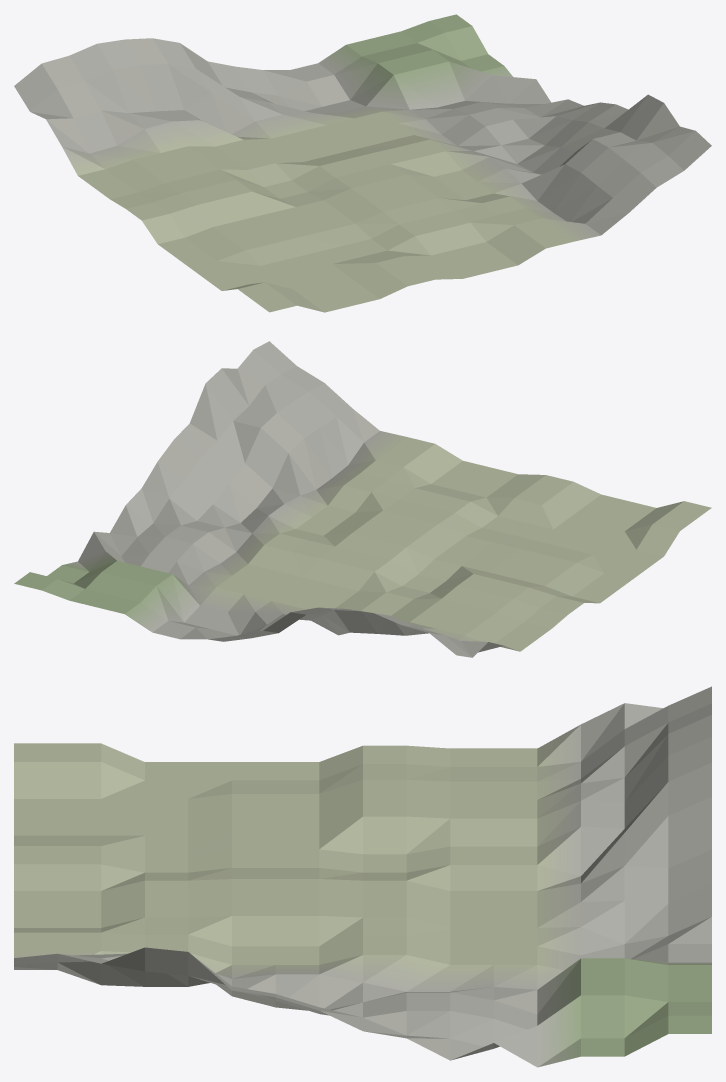
The picture shows the model from 3 angles, top to bottom: view 1: azimuth 30°, elevation 25°; view 2: azimuth 150°, elevation 25°; view 3: azimuth 270°, elevation 25°; orthographic projection. The views are drawn at different scales.
Size of the model in its own units: 32 by 6.36 by 32.
